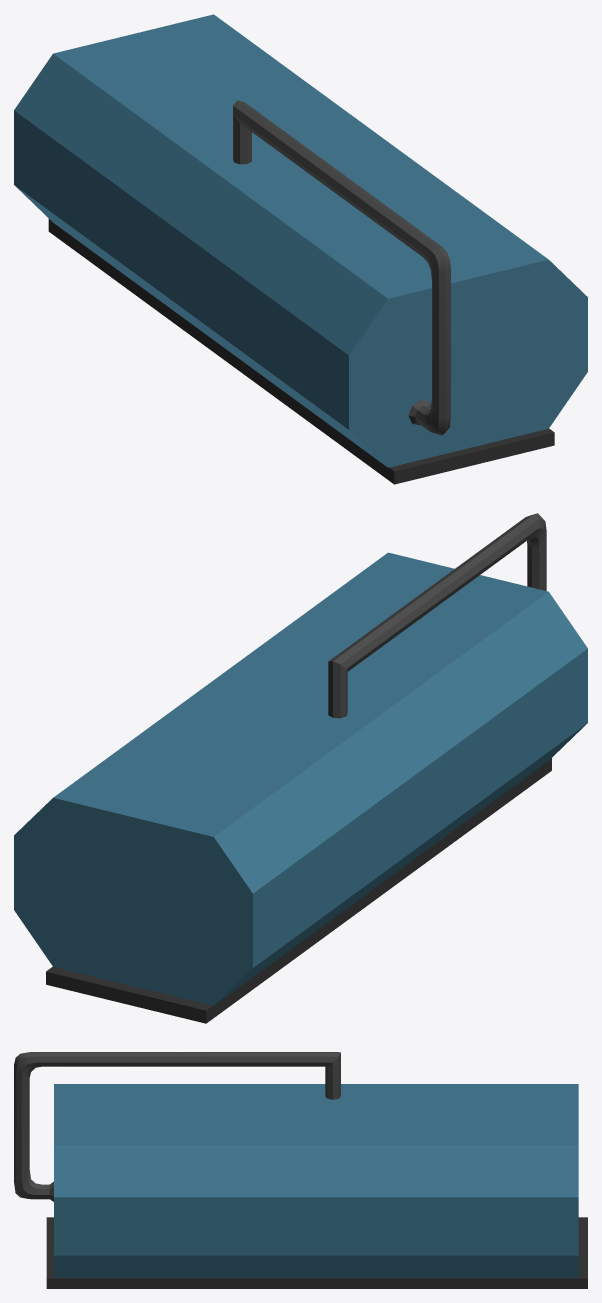
File: tank.FBX
3 renders of one model, top to bottom at view 1: azimuth 30°, elevation 25°; view 2: azimuth 150°, elevation 25°; view 3: azimuth 270°, elevation 25°, orthographic. The views are drawn at different scales.
Parts seen in each view (by area): view 1: tank; view 2: tank; view 3: tank.
Part boxes in pixels (x1,y1,x2,y2): tank: [14, 14, 587, 484]; tank: [14, 513, 587, 1023]; tank: [14, 1052, 587, 1288].
Bounding box in the file's own units: 2.1 × 2.01 × 5.59.
Materials: 1 (1 with a texture image).
